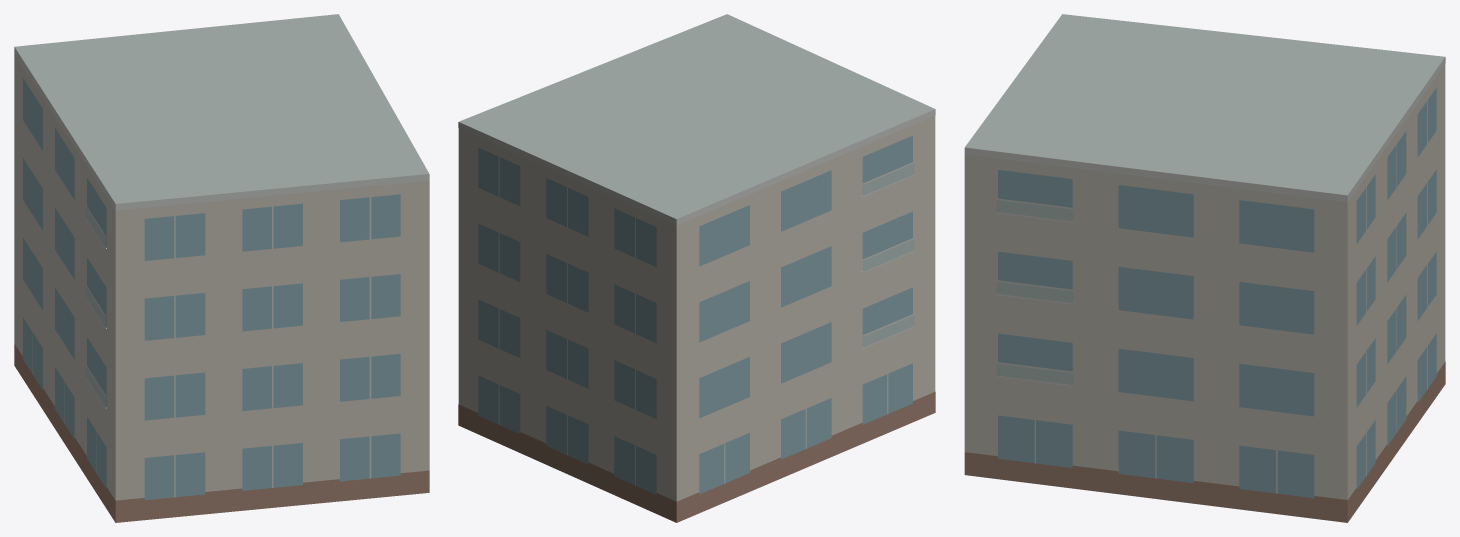
The model's file is survey-upis-32929361.glb.
3 views of the same model, side by side, from view 1: azimuth 30°, elevation 25°; view 2: azimuth 150°, elevation 25°; view 3: azimuth 270°, elevation 25° (orthographic). The views are drawn at different scales.
Parts seen in each view (by area): view 1: survey-upis-32929361.tmp; view 2: survey-upis-32929361.tmp; view 3: survey-upis-32929361.tmp.
Part boxes in pixels (x1,y1,x2,y2): survey-upis-32929361.tmp: (14, 14, 429, 522); survey-upis-32929361.tmp: (458, 14, 935, 522); survey-upis-32929361.tmp: (964, 14, 1445, 522).
Bounding box in the file's own units: 13.91 × 11.7 × 15.58.
